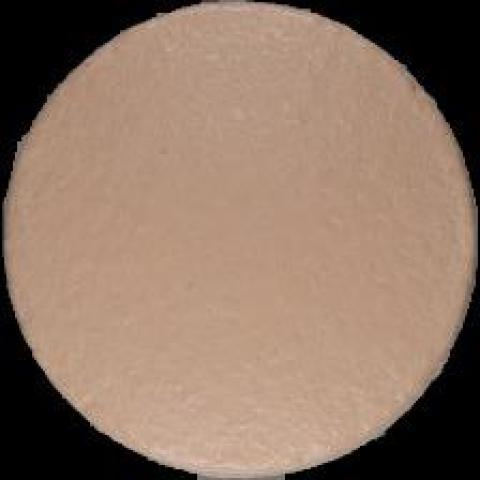Pill: (13, 2, 474, 480)
